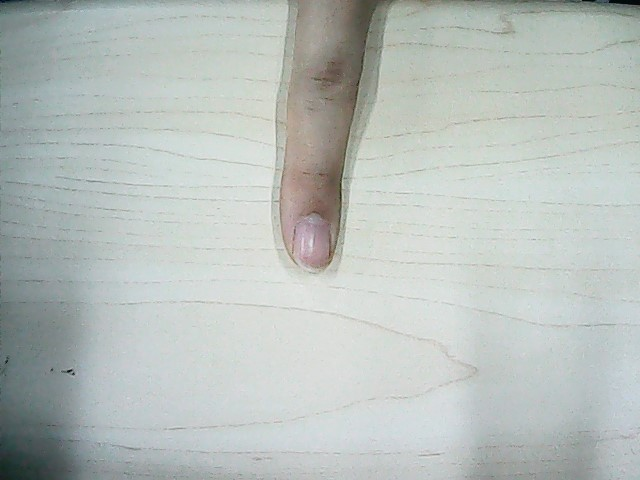nail: (293, 218, 331, 274)
